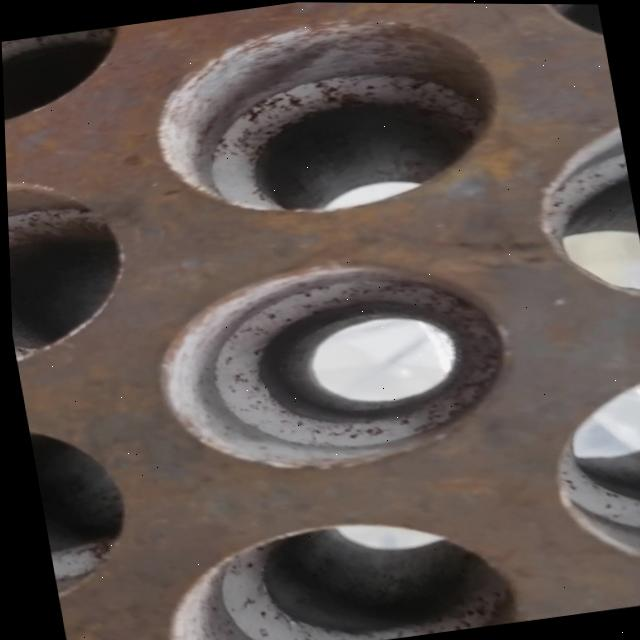Hole: (137, 240, 520, 491), (138, 1, 515, 234), (144, 499, 523, 640), (5, 155, 140, 362), (535, 366, 640, 590), (526, 123, 640, 311)
